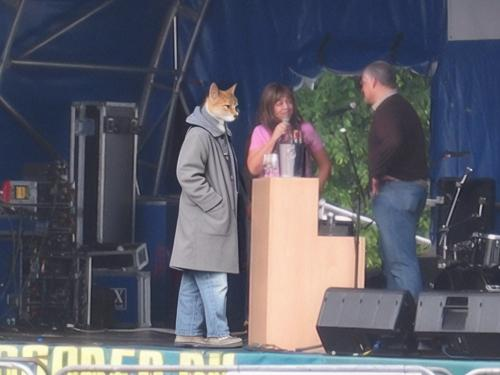cat: (166, 82, 244, 348)
person: (360, 61, 430, 290), (246, 82, 333, 198)
person/hand: (272, 122, 291, 141), (369, 178, 380, 195)
person/head: (361, 62, 396, 105), (265, 83, 294, 123)
